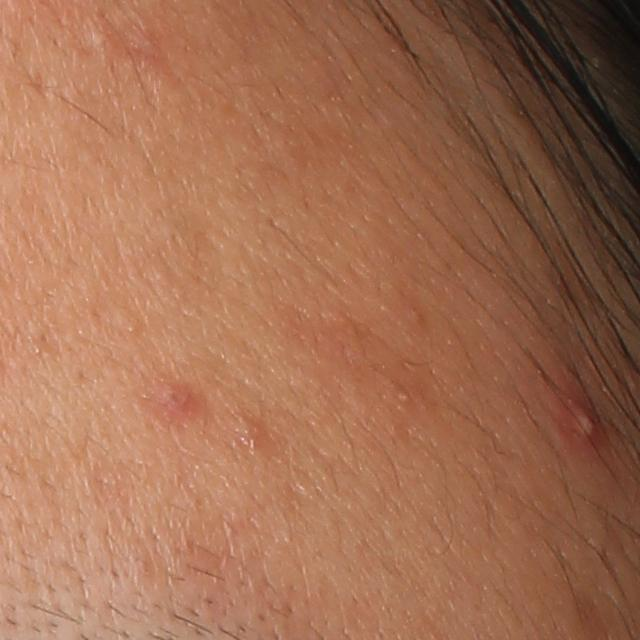papule: (146, 386, 199, 420)
pustule: (559, 379, 611, 447)
